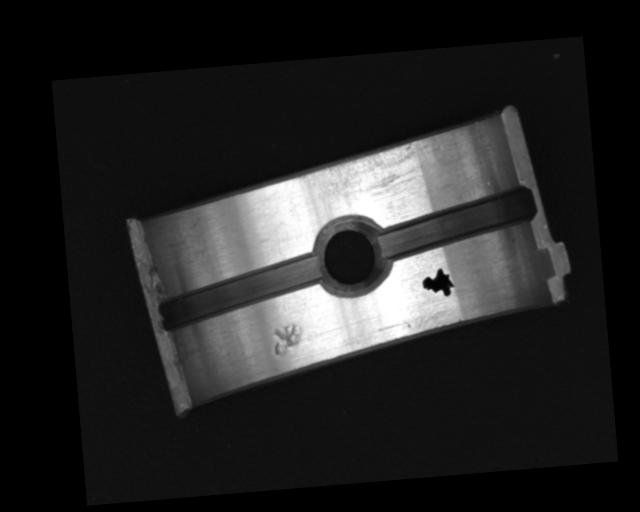blot: (420, 266, 457, 298)
bruise: (271, 322, 306, 358)
gap: (155, 250, 326, 332), (372, 185, 540, 259)
hole: (310, 213, 392, 295)
scratch: (296, 132, 449, 211)
